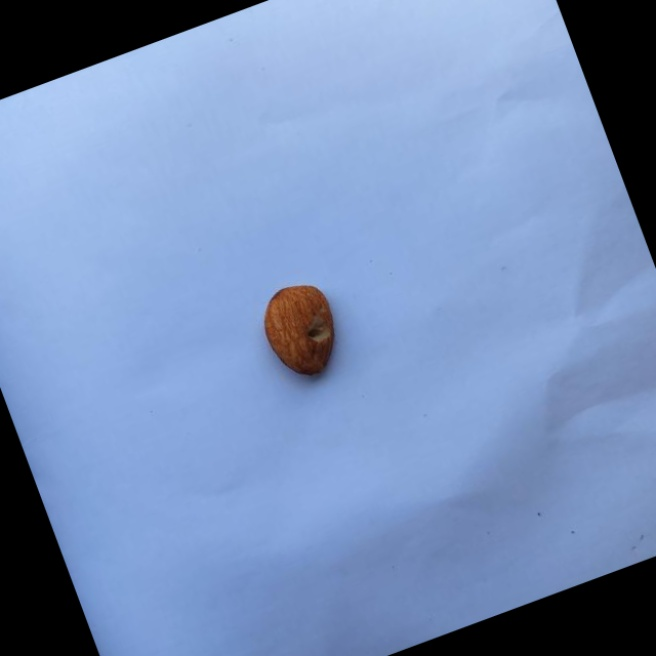grade3: (250, 270, 357, 391)
